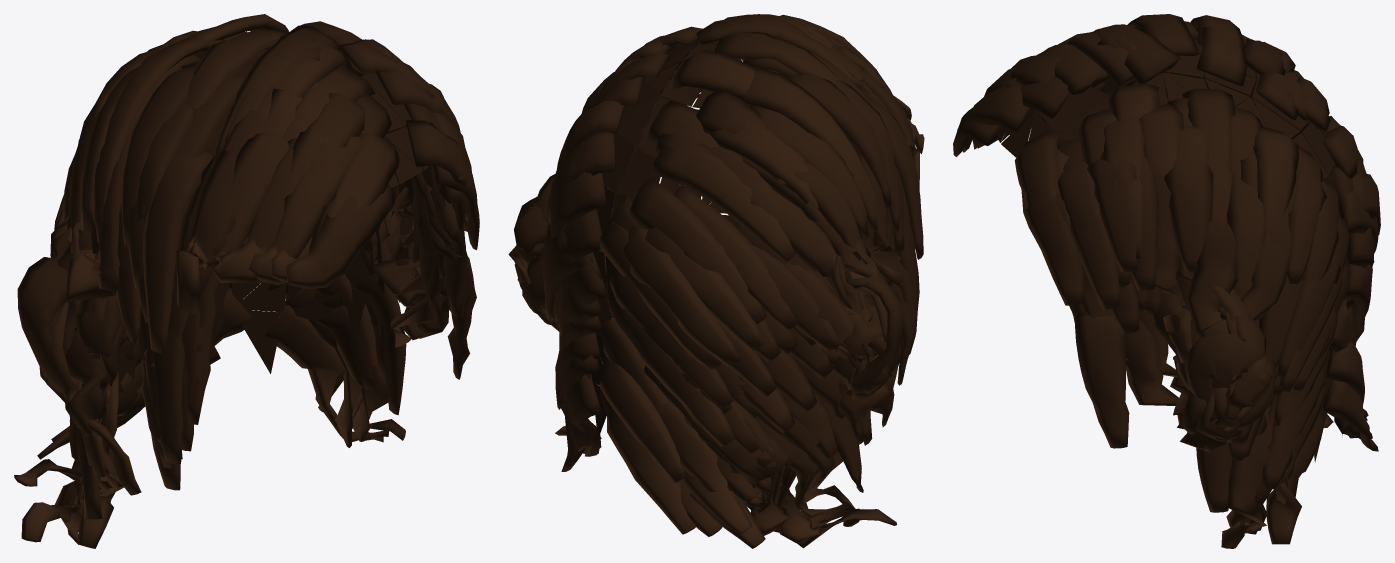
File: kopf.haar.scheitel.glb
3 renders of one model, left to right at view 1: azimuth 30°, elevation 25°; view 2: azimuth 150°, elevation 25°; view 3: azimuth 270°, elevation 25°, orthographic. The views are drawn at different scales.
Visible parts, largest first — view 1: haar; view 2: haar; view 3: haar.
Part boxes in pixels (<box>): haar: <box>14,14,479,548</box>; haar: <box>508,14,924,548</box>; haar: <box>953,14,1380,548</box>.
Bounding box in the file's own units: 0.2371 × 0.2625 × 0.2175.
